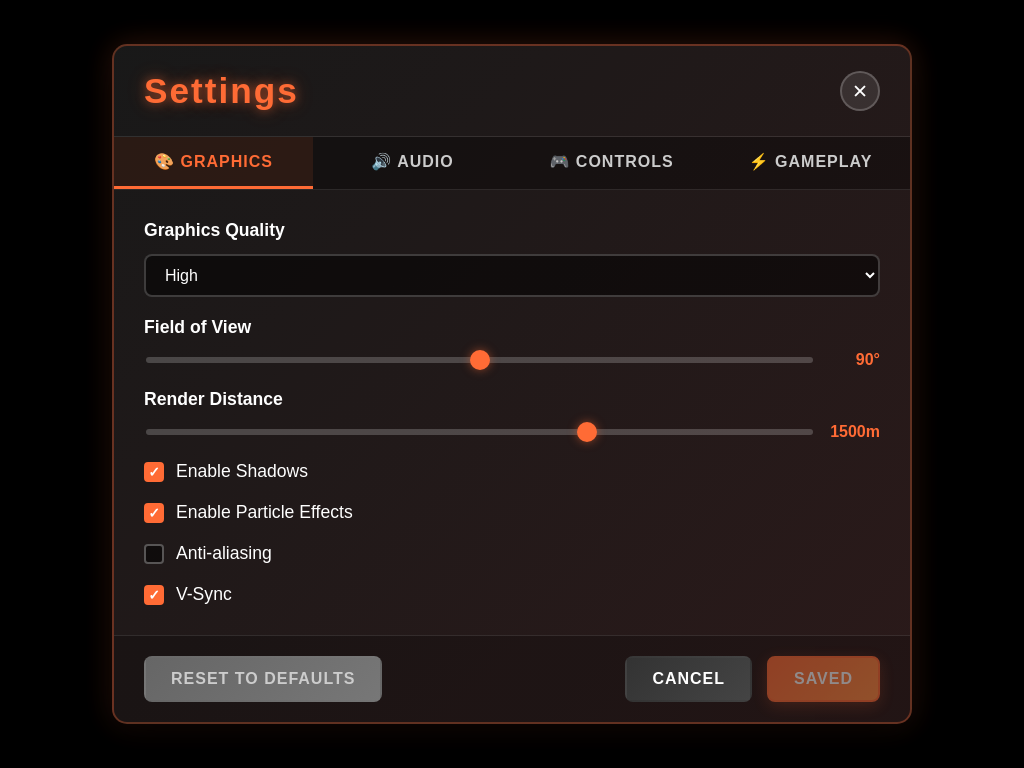
Test: SettingsMenu Component › displays initial controls settings correctly
The width and height of the screenshot is (1024, 768).
# Switch to controls tab
Click the button "🎮 Controls" at x=612, y=163, box [512, 137, 711, 189]
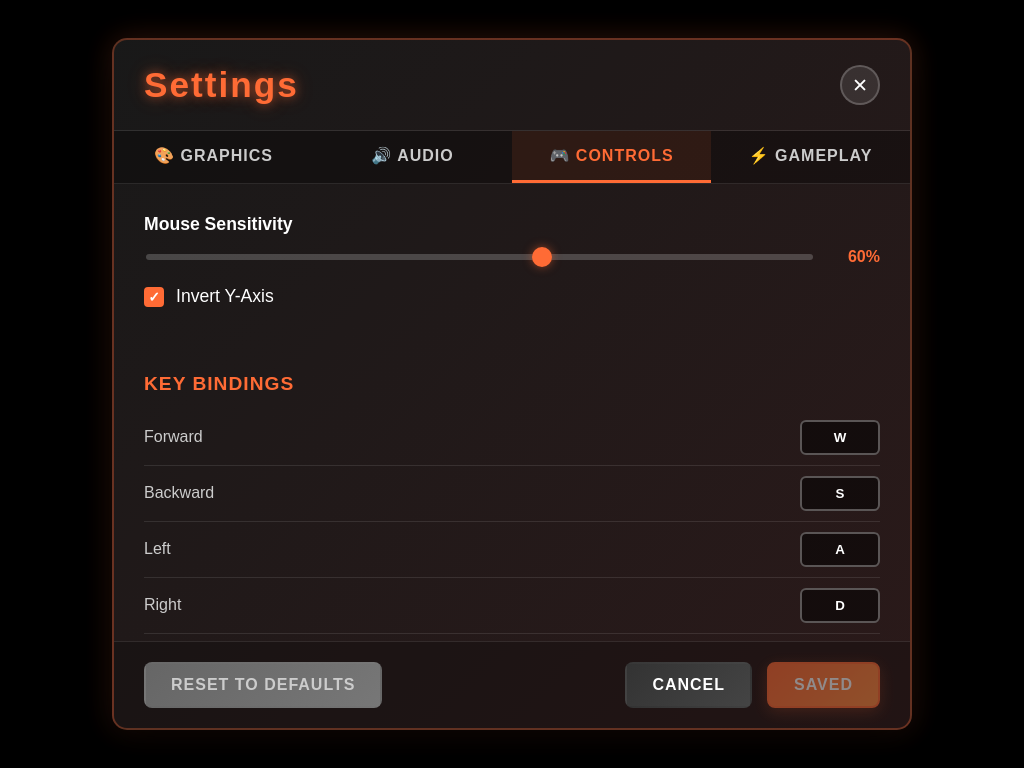
Check: the slider showing "60" is shown, box [146, 254, 813, 260]
Check: the button "W" is shown, box [800, 420, 880, 455]
